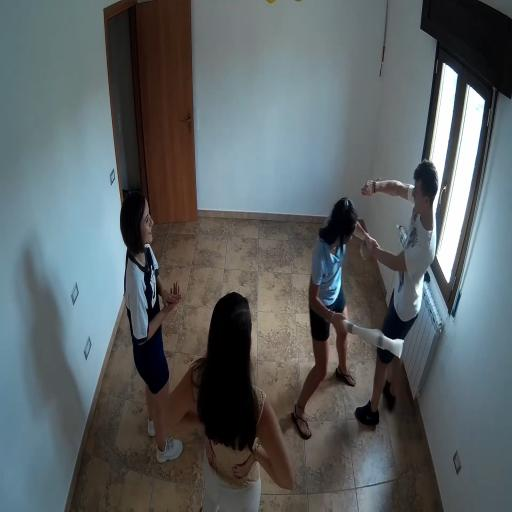violencia: (278, 142, 442, 446)
